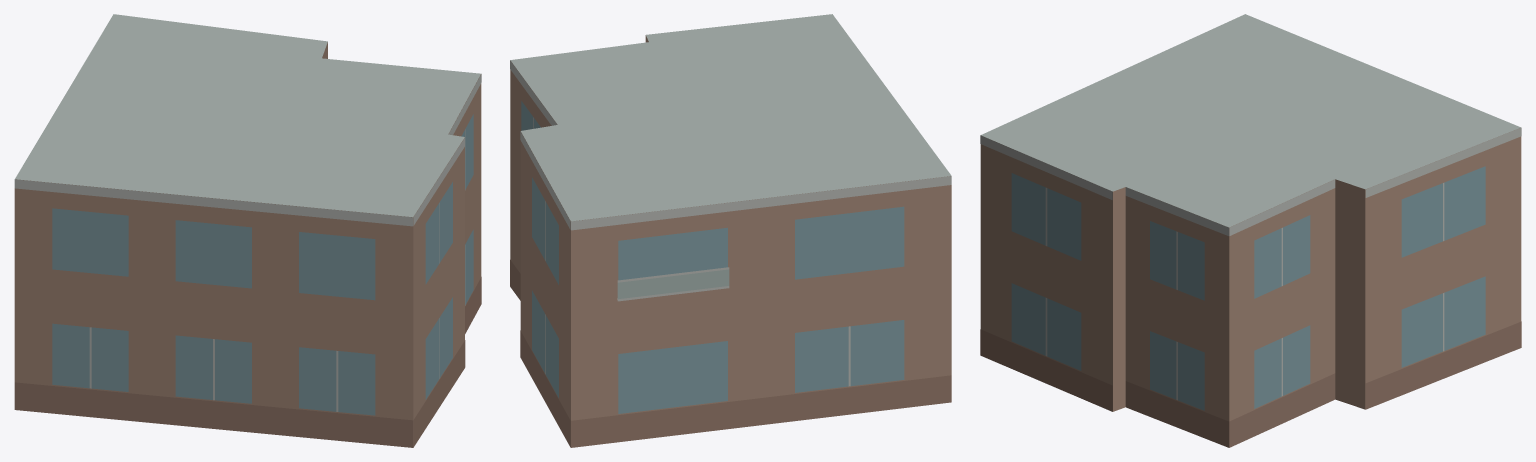
Rendered from survey-upis-32850797.glb.
The picture shows the model from 3 angles, left to right: view 1: azimuth 30°, elevation 25°; view 2: azimuth 150°, elevation 25°; view 3: azimuth 270°, elevation 25°; orthographic projection. The views are drawn at different scales.
Visible parts, largest first — view 1: survey-upis-32850797.tmp; view 2: survey-upis-32850797.tmp; view 3: survey-upis-32850797.tmp.
Boxes of the visible parts, x1,y1,x2,y2 form: survey-upis-32850797.tmp: (14, 14, 481, 447); survey-upis-32850797.tmp: (510, 14, 951, 447); survey-upis-32850797.tmp: (980, 14, 1521, 447).
Bounding box in the file's own units: 12.69 × 6.1 × 13.58.
